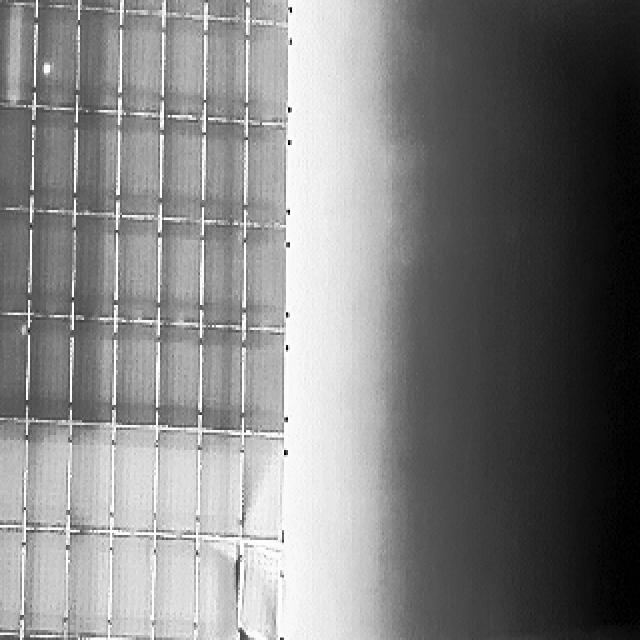Hotspots: (41, 54, 64, 78)
PV-modules: (107, 425, 155, 534), (198, 331, 246, 438), (24, 421, 70, 529), (67, 422, 112, 532), (198, 428, 244, 535), (65, 530, 110, 639), (159, 118, 206, 222), (194, 535, 240, 640), (109, 535, 154, 640), (29, 214, 74, 318), (158, 326, 203, 430), (32, 110, 77, 214), (160, 219, 204, 325), (159, 427, 202, 535), (244, 330, 287, 438), (24, 531, 68, 636), (150, 535, 194, 640), (28, 317, 72, 422), (116, 219, 160, 324), (68, 320, 112, 424), (162, 14, 206, 117), (72, 112, 116, 215), (74, 10, 118, 113), (70, 213, 113, 318), (201, 221, 244, 326), (248, 22, 292, 124), (115, 322, 158, 426), (242, 435, 283, 542), (202, 121, 244, 225), (246, 226, 288, 330), (37, 2, 79, 105), (116, 12, 158, 114), (248, 124, 289, 228), (203, 22, 245, 123), (120, 115, 162, 216), (238, 540, 280, 640), (0, 105, 38, 210), (0, 2, 32, 108), (0, 210, 28, 315), (0, 420, 26, 530), (0, 312, 26, 418), (0, 528, 24, 632), (160, 0, 224, 18), (247, 0, 290, 24), (202, 0, 246, 20), (120, 0, 162, 15), (20, 637, 64, 640), (0, 635, 18, 640)
